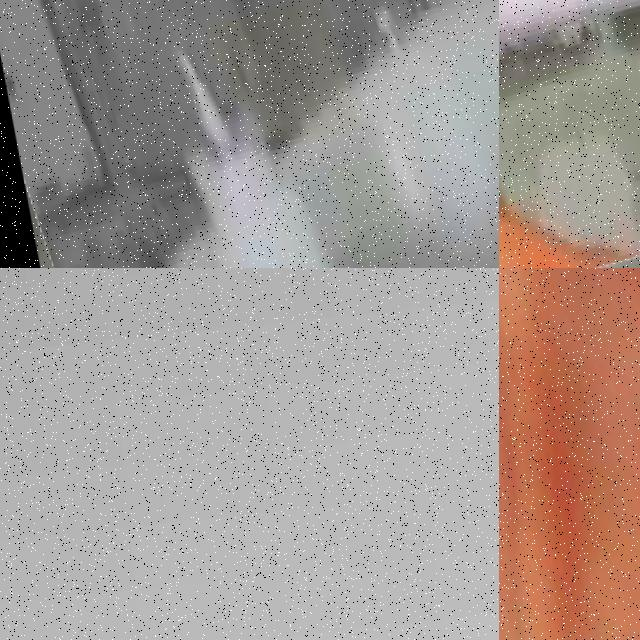drone: (0, 0, 499, 268), (499, 268, 640, 640), (499, 0, 640, 268)
